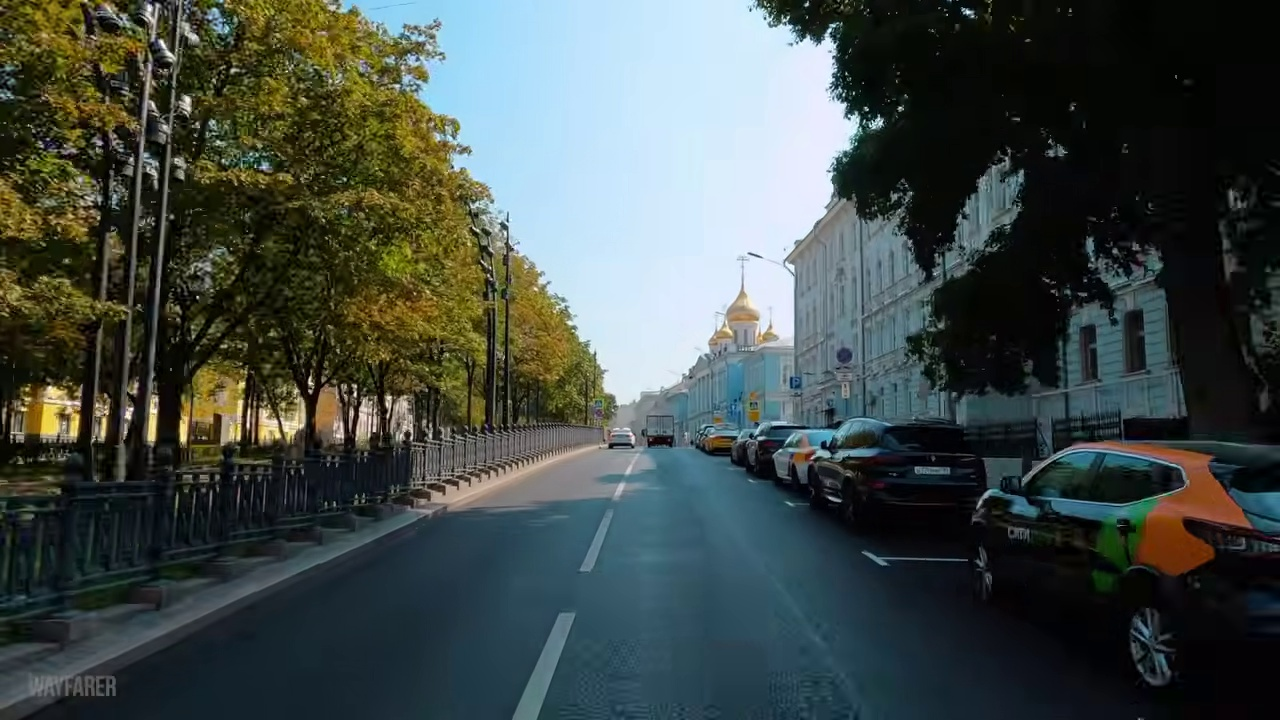apagada: (741, 247, 765, 267)
